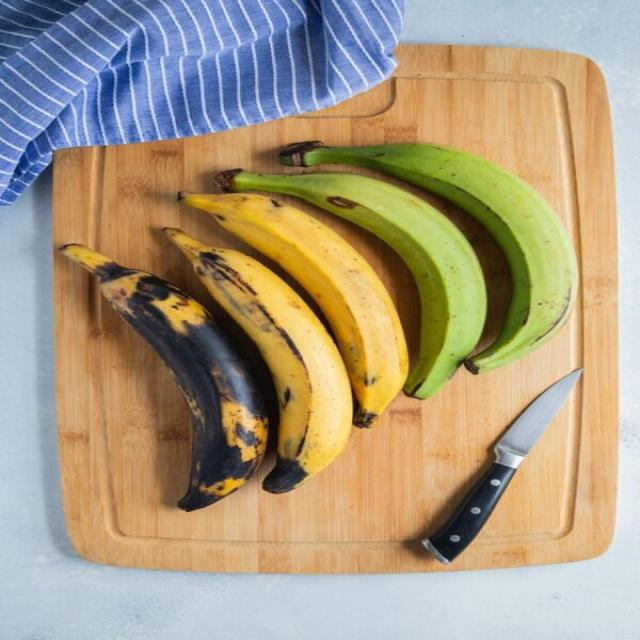platano: (50, 240, 279, 516)
